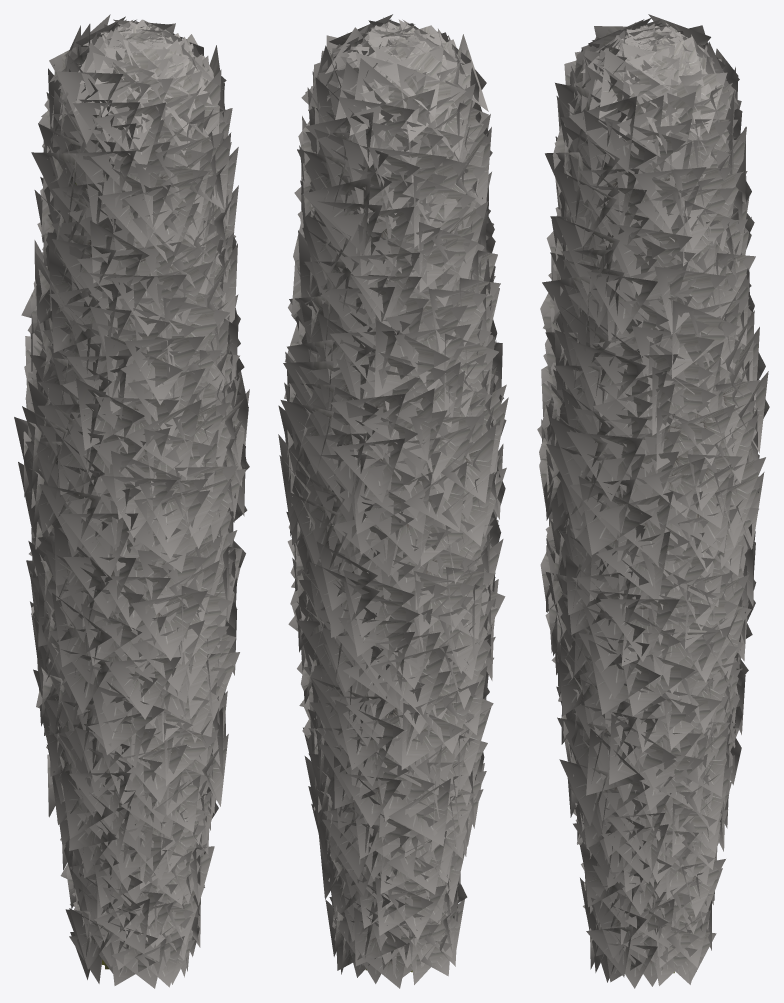
The model's file is s_saguaro2.glb.
The picture shows the model from 3 angles, left to right: view 1: azimuth 30°, elevation 25°; view 2: azimuth 150°, elevation 25°; view 3: azimuth 270°, elevation 25°; orthographic projection.
Visible parts, largest first — view 1: Carnegiea_gigantea_HD_Cactus spines 01_0; view 2: Carnegiea_gigantea_HD_Cactus spines 01_0; view 3: Carnegiea_gigantea_HD_Cactus spines 01_0.
Boxes of the visible parts, x1=… form: Carnegiea_gigantea_HD_Cactus spines 01_0: x1=14, y1=14, x2=249, y2=988; Carnegiea_gigantea_HD_Cactus spines 01_0: x1=278, y1=14, x2=508, y2=988; Carnegiea_gigantea_HD_Cactus spines 01_0: x1=537, y1=14, x2=769, y2=988.
Bounding box in the file's own units: 0.1726 × 0.764 × 0.1709.
2 materials, 2 textured.
